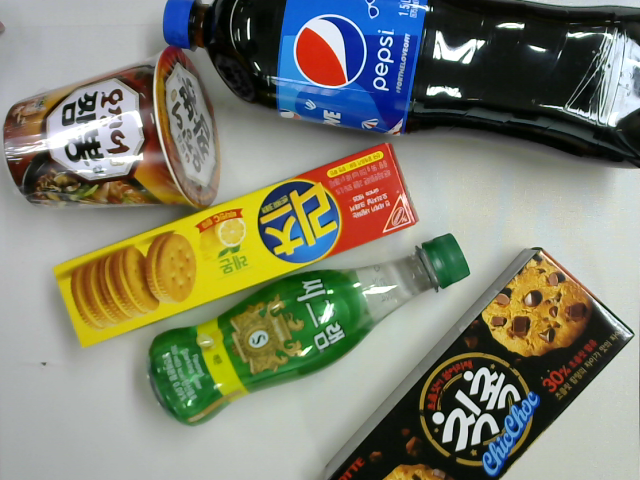Chicchok_Original_2400: (314, 245, 637, 480)
Ojjam: (1, 44, 220, 217)
Pepsi_Cola_1.5L: (162, 1, 640, 172)
Ritz_Remon_96g: (50, 141, 420, 352)
Seagram_Lemon_Carbonated_Water: (143, 230, 473, 434)
